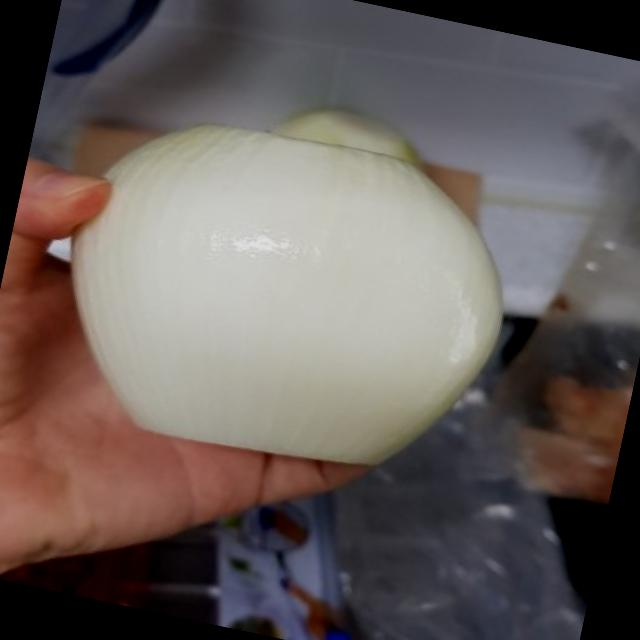orange: (19, 77, 576, 547)
